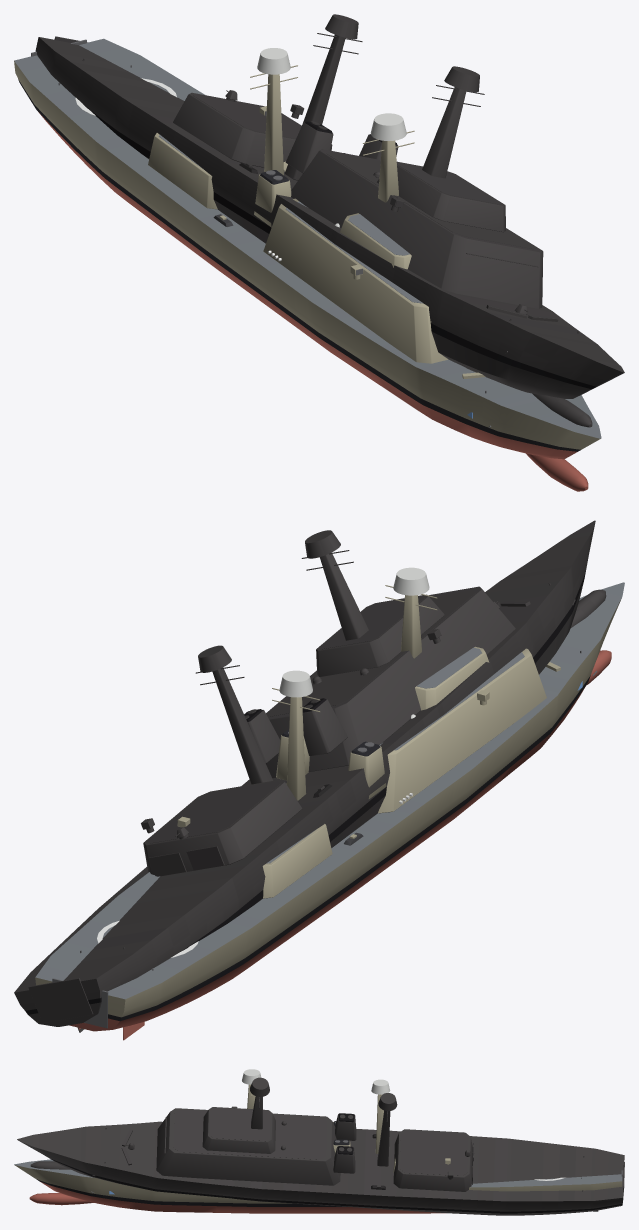
The model's file is landingShip__san_antonio_class.glb.
3 views of the same model, one above another, from view 1: azimuth 30°, elevation 25°; view 2: azimuth 150°, elevation 25°; view 3: azimuth 270°, elevation 25° (orthographic). The views are drawn at different scales.
Visible parts, largest first — view 1: Wreck, Hull_Mesh; view 2: Wreck, Hull_Mesh; view 3: Wreck, Hull_Mesh.
Part boxes in pixels (bbox=[...]): Wreck: bbox=[35, 14, 624, 427]; Hull_Mesh: bbox=[14, 38, 601, 491]; Wreck: bbox=[14, 520, 606, 1032]; Hull_Mesh: bbox=[35, 567, 624, 1040]; Wreck: bbox=[17, 1077, 624, 1215]; Hull_Mesh: bbox=[14, 1069, 622, 1213].
Size of what is drawn, in the model's own units: 39.72 by 58.37 by 218.
